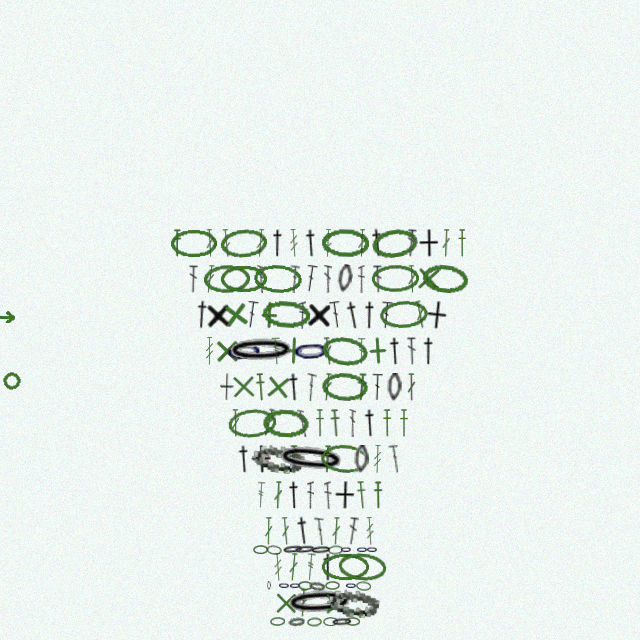chain: (275, 442, 347, 476), (284, 587, 355, 618), (226, 336, 296, 365), (251, 442, 305, 475), (326, 587, 380, 619), (320, 334, 370, 368), (370, 226, 420, 260), (421, 262, 470, 295), (337, 551, 387, 583), (227, 407, 277, 439), (219, 227, 268, 259), (320, 443, 370, 474), (261, 299, 311, 330), (379, 299, 429, 330), (253, 263, 302, 294), (321, 371, 369, 402), (262, 408, 310, 438), (371, 264, 419, 293), (321, 228, 369, 257), (203, 264, 250, 293), (321, 553, 369, 581), (220, 265, 267, 293), (170, 229, 217, 257), (224, 336, 264, 366), (291, 336, 331, 365), (336, 264, 354, 293), (354, 445, 369, 473), (387, 373, 402, 401), (282, 544, 304, 555), (294, 544, 316, 555), (331, 617, 353, 627), (310, 545, 332, 555), (288, 616, 305, 627), (309, 581, 325, 591), (266, 545, 282, 555), (307, 617, 322, 627), (356, 581, 371, 591), (328, 545, 343, 555), (270, 617, 285, 626), (323, 617, 338, 626), (345, 617, 360, 626), (298, 581, 313, 590), (325, 581, 340, 590), (253, 545, 268, 554), (278, 581, 290, 590), (289, 581, 301, 590), (345, 581, 357, 590), (340, 545, 352, 554), (356, 545, 368, 554), (366, 545, 378, 554), (267, 581, 271, 590)
double: (261, 408, 276, 437), (245, 300, 259, 329), (329, 300, 343, 329), (413, 300, 427, 329), (304, 264, 318, 293), (388, 444, 401, 473), (380, 301, 393, 329), (314, 517, 326, 545), (347, 517, 359, 545), (305, 373, 317, 401), (322, 337, 334, 365), (204, 265, 216, 293), (288, 265, 300, 293), (288, 553, 299, 581), (280, 517, 291, 545), (297, 409, 308, 437), (322, 373, 333, 401), (372, 373, 383, 401), (255, 229, 266, 257), (406, 229, 417, 257), (298, 589, 308, 617), (331, 517, 341, 545), (273, 481, 283, 509), (407, 337, 417, 365), (373, 265, 383, 293), (407, 265, 417, 293), (205, 229, 215, 257), (357, 229, 367, 257), (441, 229, 451, 257), (264, 517, 273, 545), (231, 409, 240, 437), (407, 373, 416, 401), (189, 265, 198, 293), (323, 265, 332, 293), (324, 481, 332, 509), (257, 265, 265, 293), (307, 481, 314, 509), (349, 409, 356, 437), (299, 301, 306, 329), (358, 265, 365, 293)
half_double: (343, 300, 363, 330), (294, 516, 312, 545), (193, 300, 211, 329), (369, 228, 386, 257), (420, 337, 437, 365), (361, 301, 378, 329), (269, 229, 286, 257), (320, 553, 336, 581), (286, 481, 302, 509), (236, 445, 252, 473), (362, 409, 378, 437), (286, 373, 302, 401), (387, 337, 403, 365), (303, 229, 319, 257), (355, 481, 368, 509), (329, 409, 342, 437), (254, 373, 267, 401), (355, 373, 368, 401), (288, 445, 299, 473), (322, 445, 333, 473), (373, 481, 383, 509), (315, 409, 325, 437), (382, 409, 392, 437), (399, 409, 409, 437), (172, 229, 182, 257), (457, 229, 467, 257)
noise: (0, 369, 23, 392), (0, 311, 17, 323)
single: (220, 299, 251, 330), (263, 372, 293, 402), (229, 372, 258, 401), (279, 336, 308, 365), (363, 336, 392, 365), (414, 264, 443, 293), (272, 589, 300, 617), (322, 589, 350, 617), (213, 337, 241, 365), (255, 301, 283, 329), (306, 300, 333, 329), (205, 301, 232, 329), (425, 300, 448, 330), (250, 445, 272, 473), (334, 481, 355, 509), (418, 229, 439, 257), (220, 373, 234, 401)
treble: (305, 553, 316, 581), (271, 337, 282, 365), (221, 229, 232, 257), (273, 553, 283, 581), (365, 517, 375, 545), (256, 481, 266, 509), (289, 229, 299, 257), (323, 229, 333, 257), (373, 445, 382, 473), (205, 337, 214, 365), (357, 337, 366, 365)
